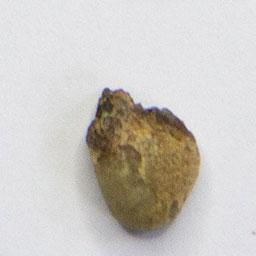defect: (81, 84, 204, 237)
